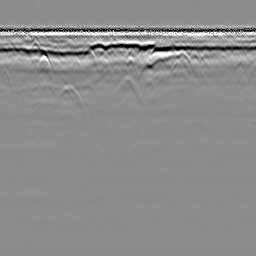cavity: (111, 74, 144, 106)
